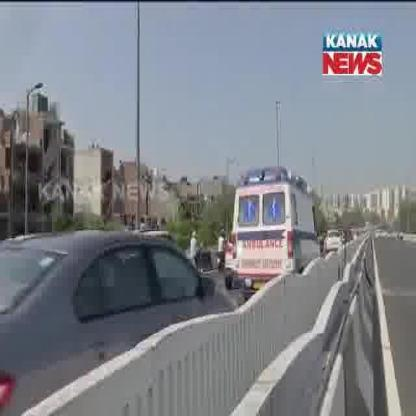priority: (233, 149, 322, 297)
